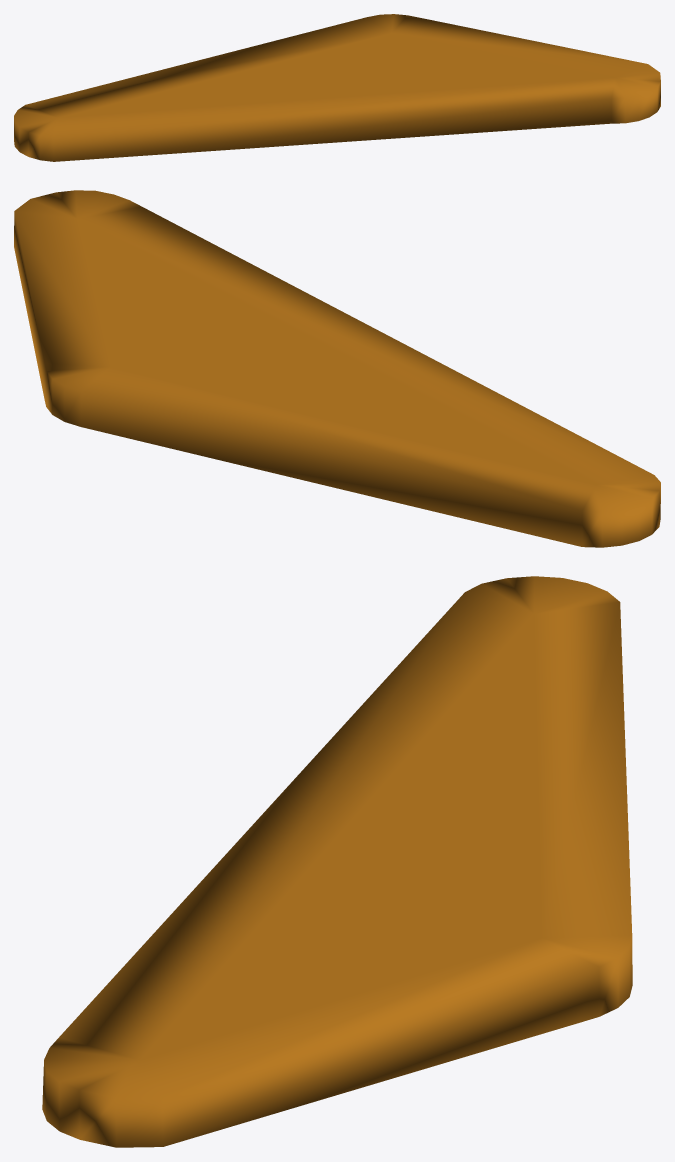
The model's file is Slingshot.fbx.
3 renders of one model, top to bottom at view 1: azimuth 30°, elevation 25°; view 2: azimuth 150°, elevation 25°; view 3: azimuth 270°, elevation 25°, orthographic. The views are drawn at different scales.
Visible parts, largest first — view 1: Slingshot; view 2: Slingshot; view 3: Slingshot.
Part boxes in pixels (x1,y1,x2,y2): Slingshot: (14, 14, 660, 161); Slingshot: (14, 190, 660, 547); Slingshot: (42, 576, 632, 1147).
Bounding box in the file's own units: 10.83 × 0.5181 × 5.16.
